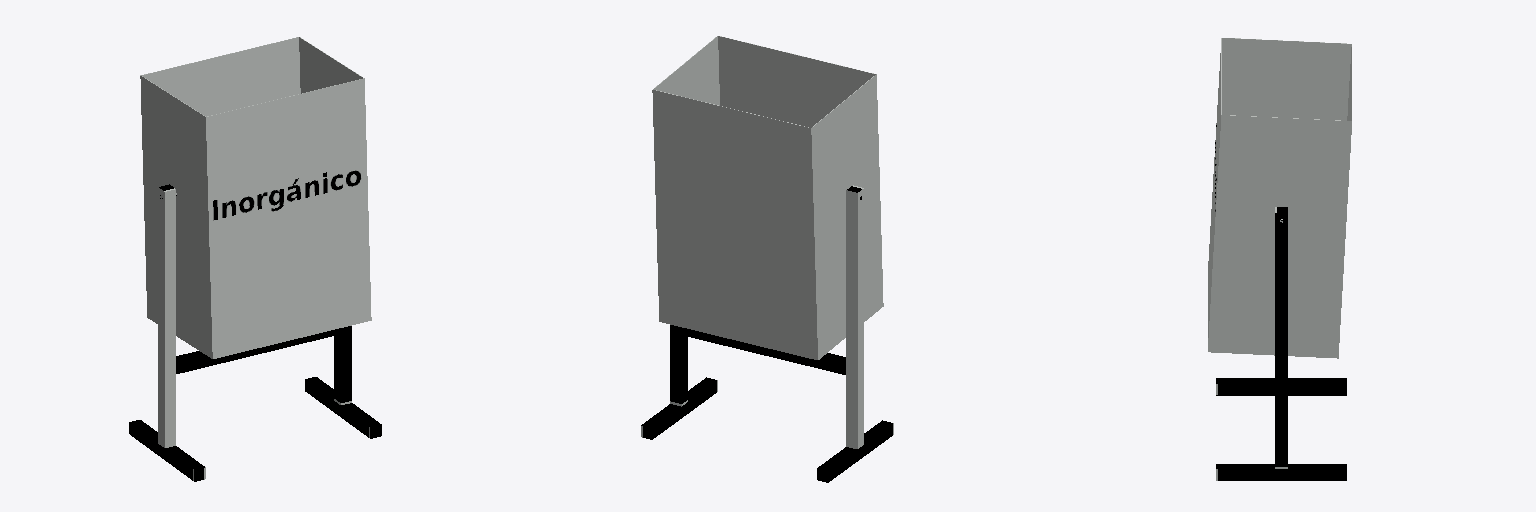
The picture shows the model from 3 angles: view 1: azimuth 30°, elevation 25°; view 2: azimuth 150°, elevation 25°; view 3: azimuth 270°, elevation 25°; orthographic projection.
Parts seen in each view (by area): view 1: bin; view 2: bin; view 3: bin.
Boxes of the visible parts, <box> form: bin: <box>129,37,381,481</box>; bin: <box>641,36,893,482</box>; bin: <box>1208,38,1351,480</box>.
Bounding box in the file's own units: 1.92 × 3.49 × 1.27.
Materials: 1 (1 with a texture image).